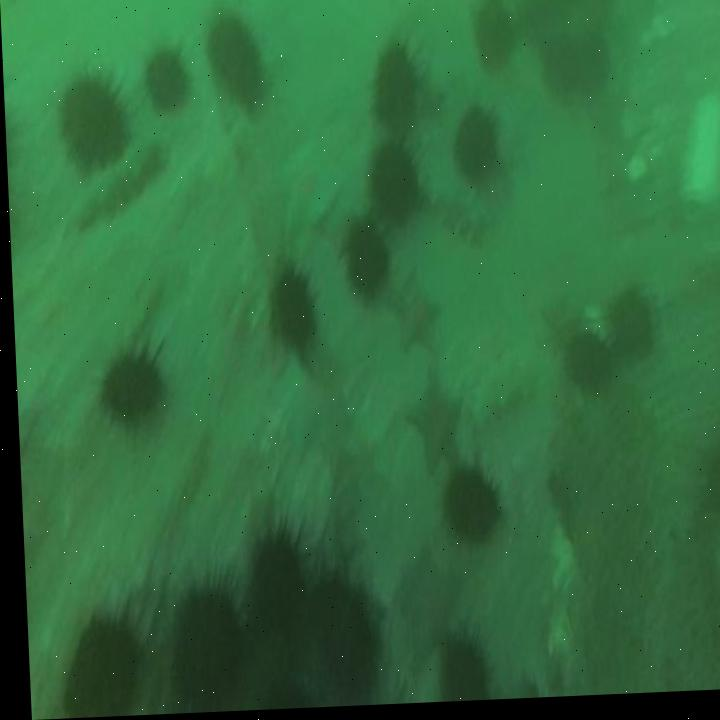echinus: (305, 585, 374, 700), (167, 590, 236, 702), (232, 624, 318, 713), (57, 627, 136, 719), (58, 74, 126, 165), (369, 46, 418, 149), (206, 19, 265, 103), (439, 472, 495, 549), (248, 532, 300, 614), (264, 263, 314, 348), (94, 356, 160, 420), (339, 223, 389, 305), (367, 148, 415, 229), (452, 106, 495, 185), (473, 5, 515, 78), (435, 642, 481, 706), (604, 287, 644, 358), (541, 38, 583, 104), (563, 340, 608, 399), (145, 51, 185, 109), (580, 30, 607, 97)
holothurian: (68, 146, 160, 231), (418, 170, 485, 252), (466, 354, 531, 432)
starfish: (389, 549, 460, 673), (404, 378, 460, 477), (392, 269, 440, 354), (539, 296, 588, 353)
